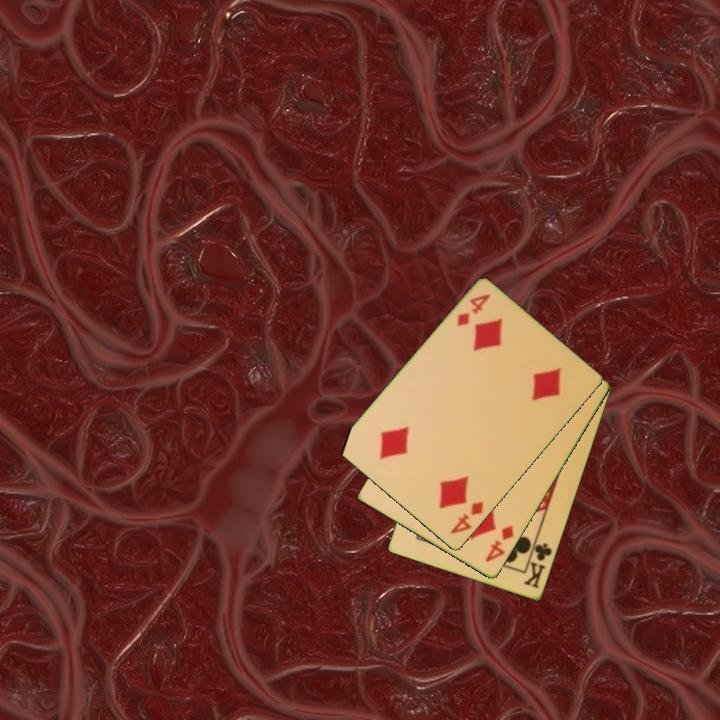4d: (446, 498, 487, 538), (453, 291, 493, 330), (482, 522, 517, 565)
Kc: (520, 535, 555, 592)
